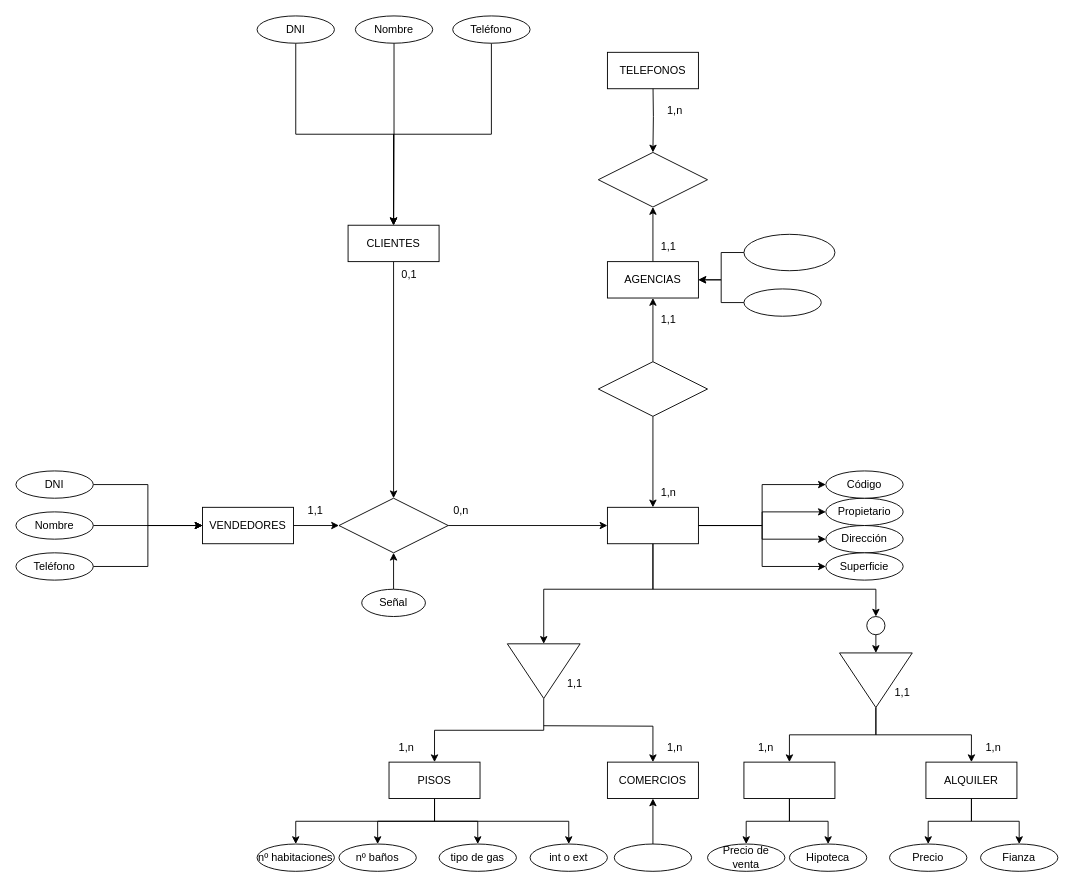
The diagram is 1074 pixels wide and 887 high, and some of its shapes have lost their labels. Each missing label, with the box of its shape:
COMPRA: (743, 761, 835, 799)
INMUEBLES: (607, 506, 698, 544)
Licencia de apertura: (613, 843, 692, 871)
para: (839, 652, 912, 708)
POSEE: (597, 152, 708, 207)
puede_ser: (506, 643, 580, 698)
RESERVA: (338, 497, 448, 553)
TIENE: (597, 361, 708, 416)
TITULAR: (743, 288, 821, 316)
ZONA DE ACTUACIÓN: (743, 233, 835, 271)
